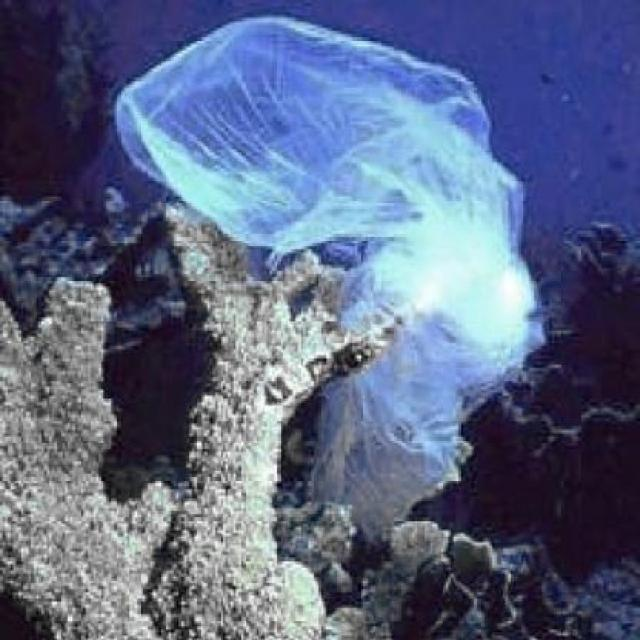plastic bag: (114, 12, 551, 534)
